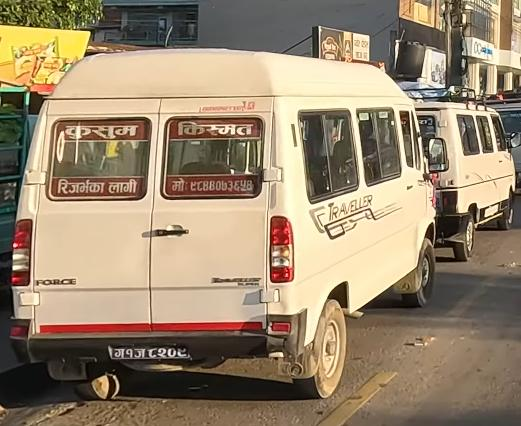micro_bus: (7, 41, 446, 409)
